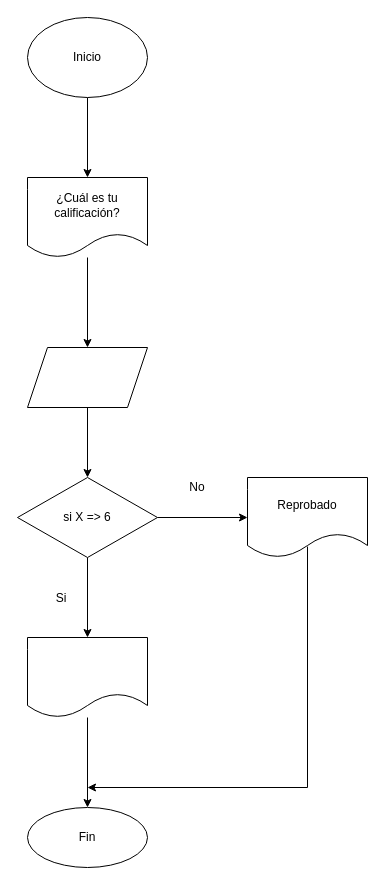
Image size: 385x885. Some labels were removed from this diagram. The centre of each missing label's shape, as x and y in pixels:
"Aprobado" goes at pixel 87 677.
"X = Calif" goes at pixel 87 377.
